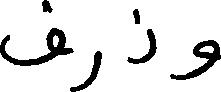X: (0, 0, 64, 70), (172, 35, 220, 84), (131, 4, 156, 68), (73, 46, 102, 91)
